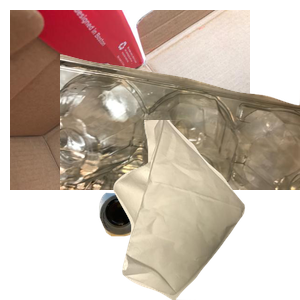cardboard: (10, 10, 250, 190)
glass: (96, 190, 230, 300)
plastic: (60, 52, 300, 232)
trash: (111, 120, 300, 300)
